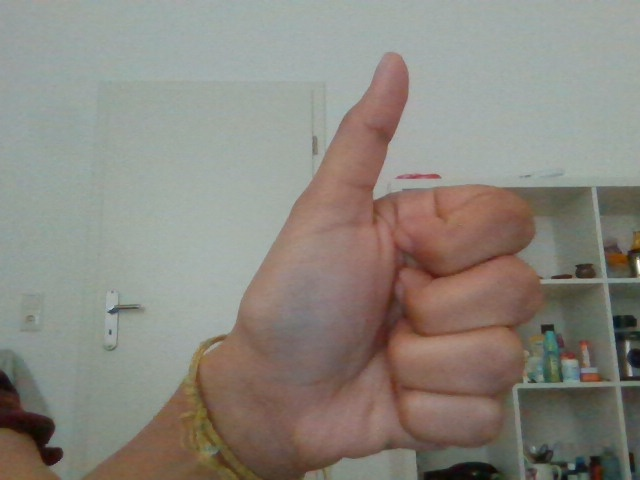thumbs_up: (218, 51, 549, 451)
